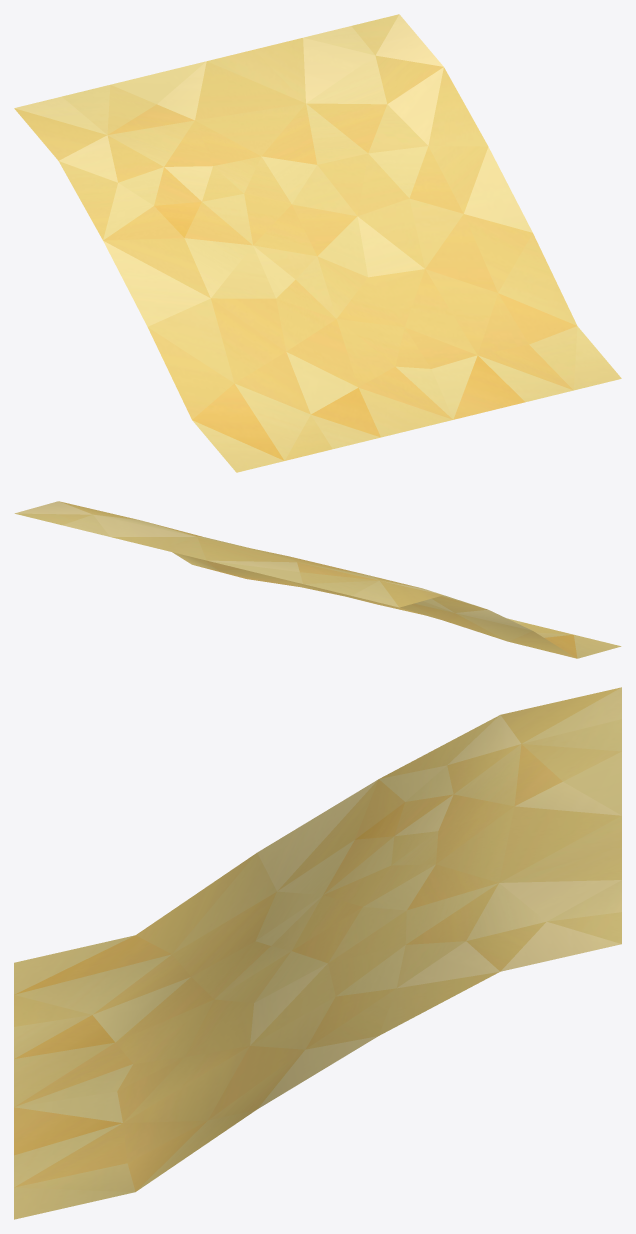
Rendered from GL-Terrain-part-07.fbx.
The picture shows the model from 3 angles, top to bottom: view 1: azimuth 30°, elevation 25°; view 2: azimuth 150°, elevation 25°; view 3: azimuth 270°, elevation 25°; orthographic projection. The views are drawn at different scales.
Visible parts, largest first — view 1: GL-Terrain-part-07; view 2: GL-Terrain-part-07; view 3: GL-Terrain-part-07.
Part boxes in pixels (x1,y1,x2,y2): GL-Terrain-part-07: (14,14,621,472); GL-Terrain-part-07: (14,501,621,658); GL-Terrain-part-07: (14,687,621,1219).
Bounding box in the file's own units: 6 × 3 × 6.
